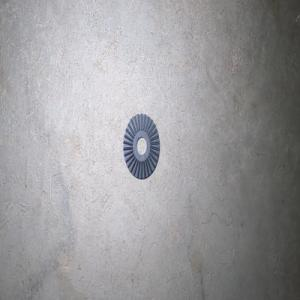Washer: (123, 113, 159, 179)
